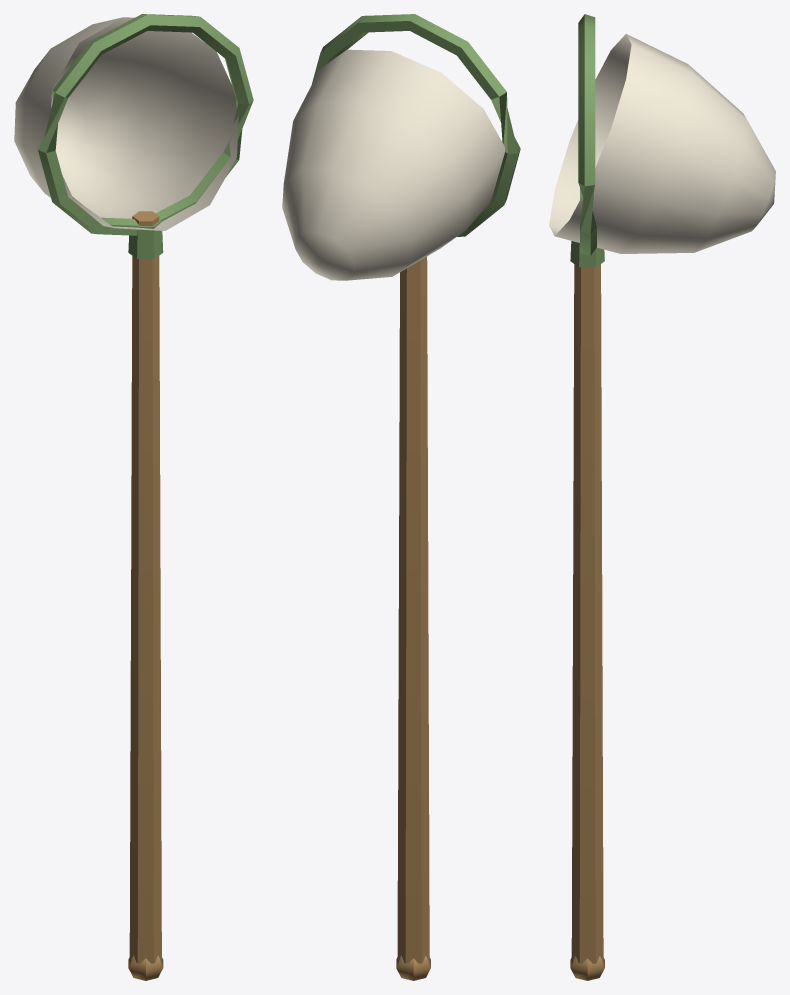
Rendered from net-1.glb.
3 renders of one model, left to right at view 1: azimuth 30°, elevation 25°; view 2: azimuth 150°, elevation 25°; view 3: azimuth 270°, elevation 25°, orthographic.
Visible parts, largest first — view 1: net-1; view 2: net-1; view 3: net-1.
Boxes of the visible parts, bbox=[...] form: net-1: bbox=[14, 14, 253, 980]; net-1: bbox=[282, 14, 520, 980]; net-1: bbox=[549, 14, 775, 980].
Bounding box in the file's own units: 0.1833 × 0.7947 × 0.1712.
